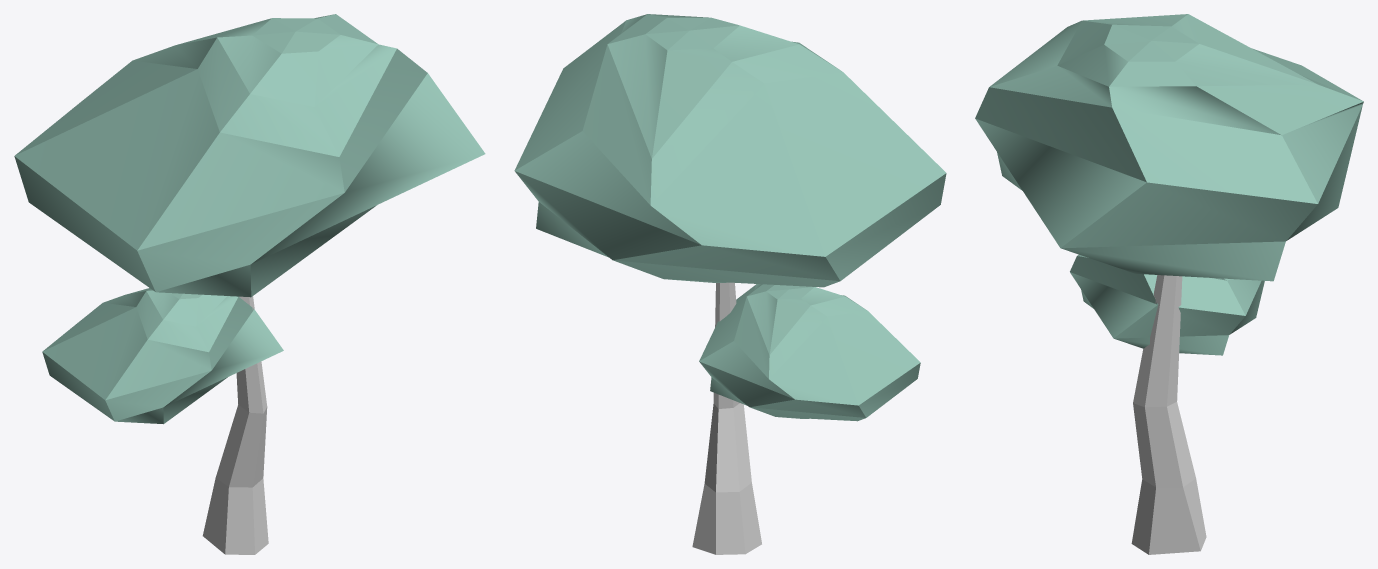
The model's file is M_Tree_002.fbx.
3 renders of one model, left to right at view 1: azimuth 30°, elevation 25°; view 2: azimuth 150°, elevation 25°; view 3: azimuth 270°, elevation 25°, orthographic. The views are drawn at different scales.
Parts seen in each view (by area): view 1: M_Tree_002; view 2: M_Tree_002; view 3: M_Tree_002.
Boxes of the visible parts, box(x1,y1,x2,y2) form: M_Tree_002: box(14, 14, 485, 554); M_Tree_002: box(514, 14, 946, 554); M_Tree_002: box(975, 14, 1363, 554).
Bounding box in the file's own units: 160 × 215 × 143.
